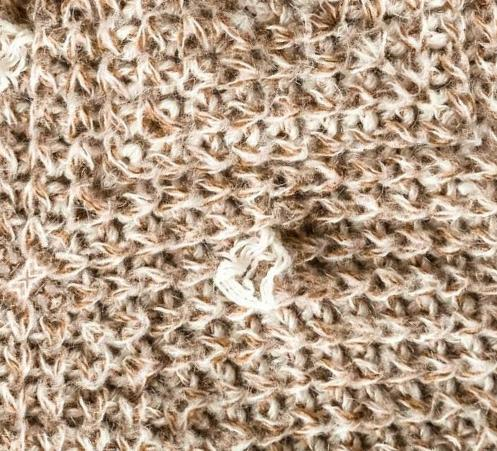snag: (203, 216, 301, 331)
